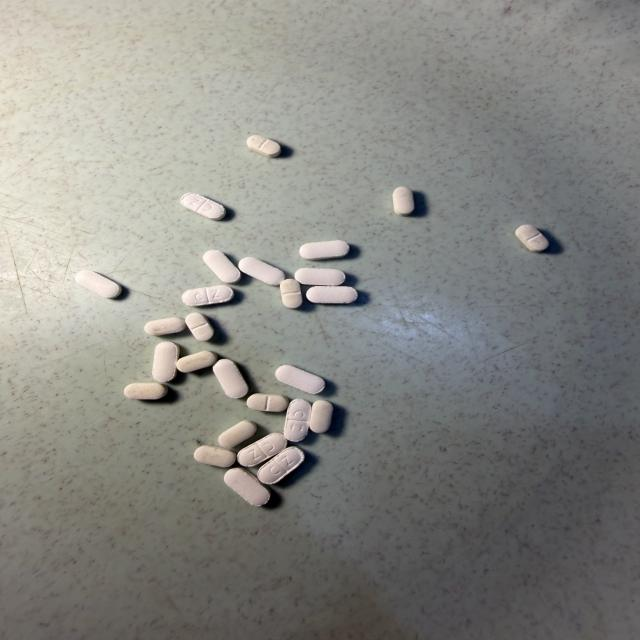pill: (224, 468, 270, 506), (258, 447, 304, 484), (238, 433, 286, 466), (275, 365, 325, 393), (213, 359, 248, 398), (239, 257, 284, 286), (75, 270, 121, 298), (203, 250, 241, 283), (181, 193, 225, 219), (284, 399, 311, 441), (182, 285, 234, 306), (152, 342, 179, 382), (218, 421, 256, 448), (300, 240, 349, 259), (295, 268, 345, 286), (515, 225, 548, 252), (194, 446, 235, 467), (177, 351, 217, 372), (307, 287, 357, 303), (310, 400, 333, 433), (247, 394, 289, 412), (144, 317, 186, 335), (247, 135, 281, 157), (186, 313, 213, 340), (124, 383, 168, 399), (280, 279, 302, 308), (393, 187, 414, 215)
